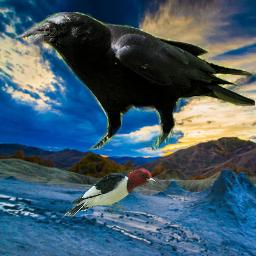Crow: (17, 12, 255, 150)
Woodpecker: (61, 164, 161, 222)
